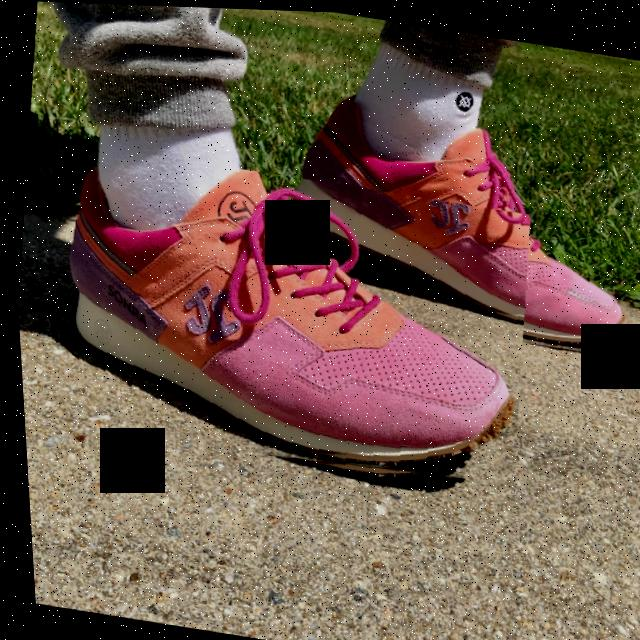shoe: (42, 142, 540, 498), (269, 75, 640, 359)
